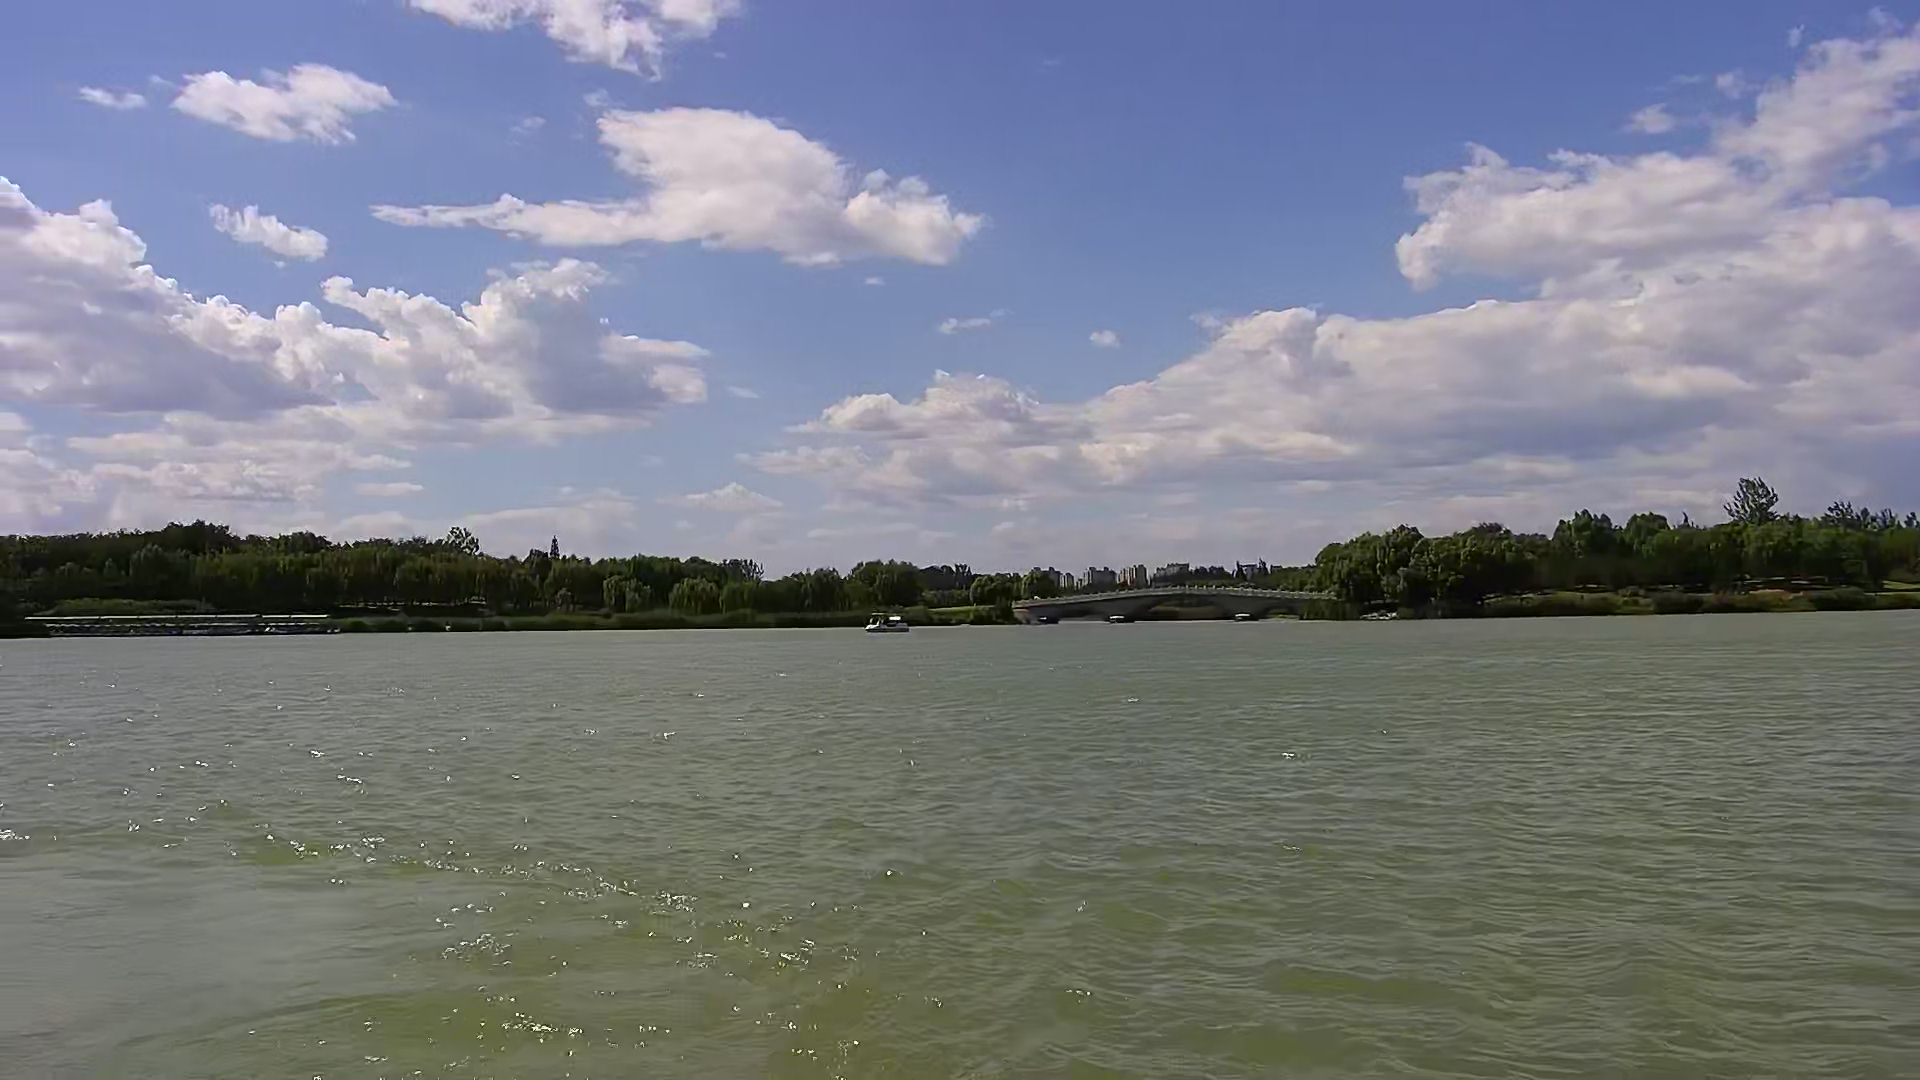boat: (861, 607, 913, 636)
bridge: (1014, 585, 1340, 622), (28, 611, 334, 632)
